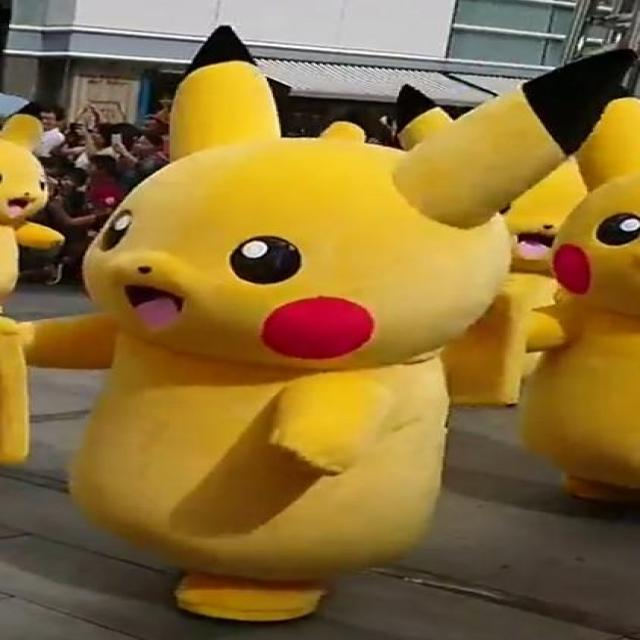pikachu: (22, 25, 640, 625), (540, 98, 640, 504)
